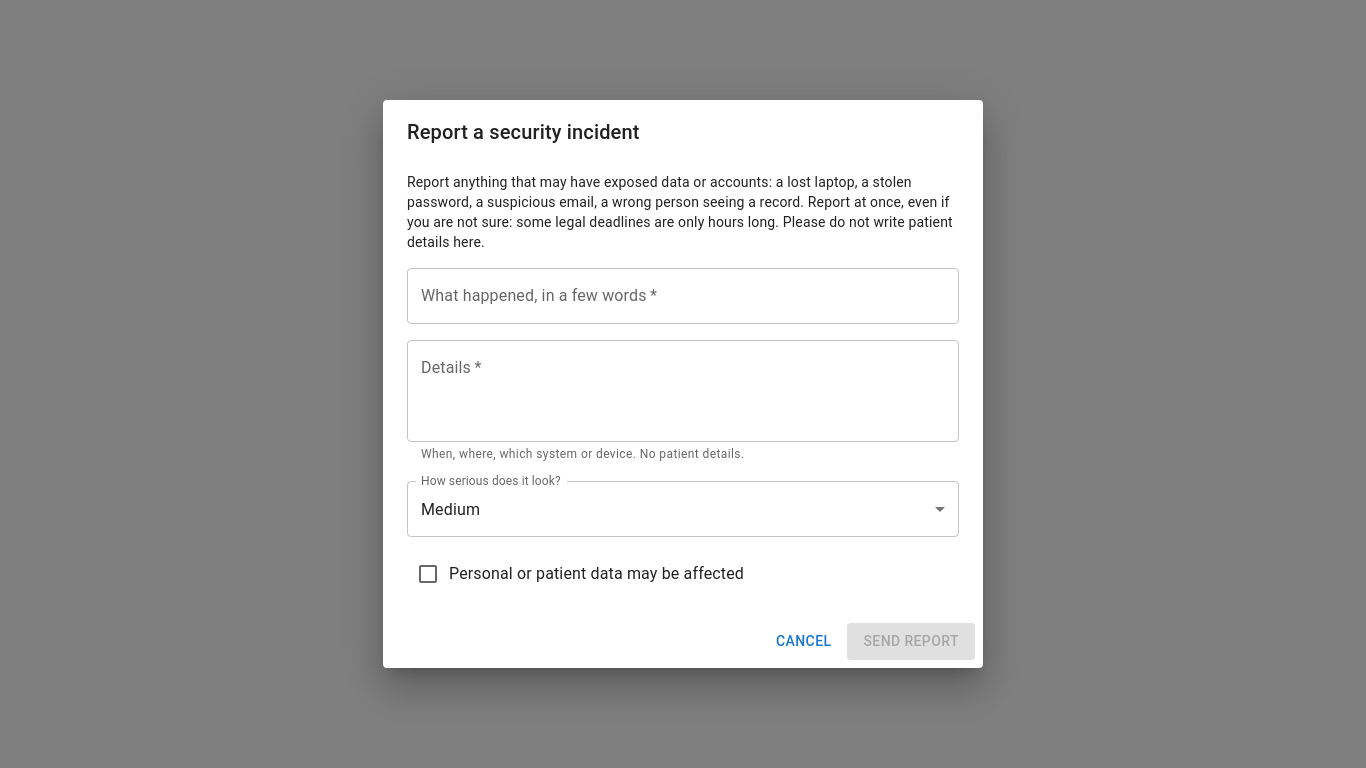
it: CompliancePage (HIMS-COMP) › anyone can report an incident and gets a reference
Expected: the button "Send report" is disabled, [848,623,975,660]
Type "Lost laptop" into the field labelled "What happened, in a few words *". click: (683, 296)
box: [407,268,959,324]
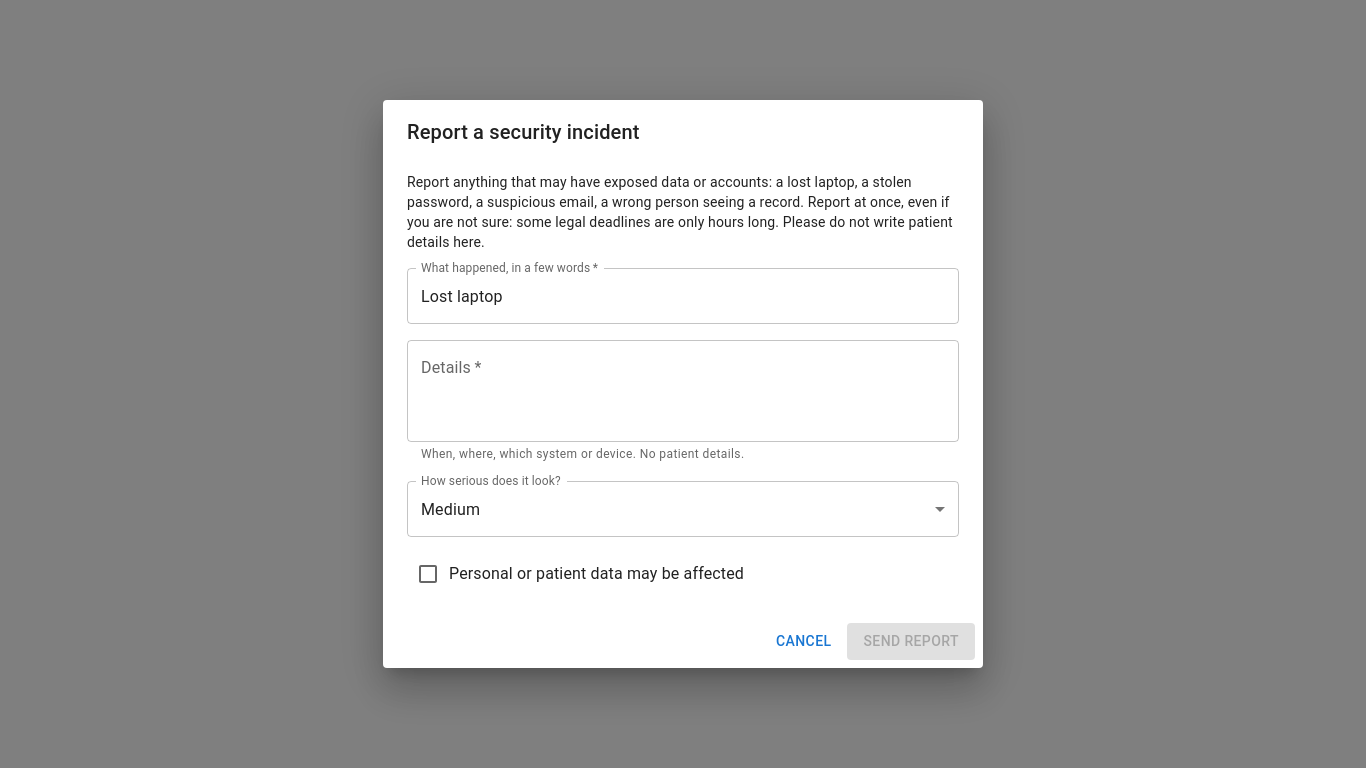
Type "Left on a train" into the text box labelled "Details *". click: (683, 391)
box: [421,357,945,426]
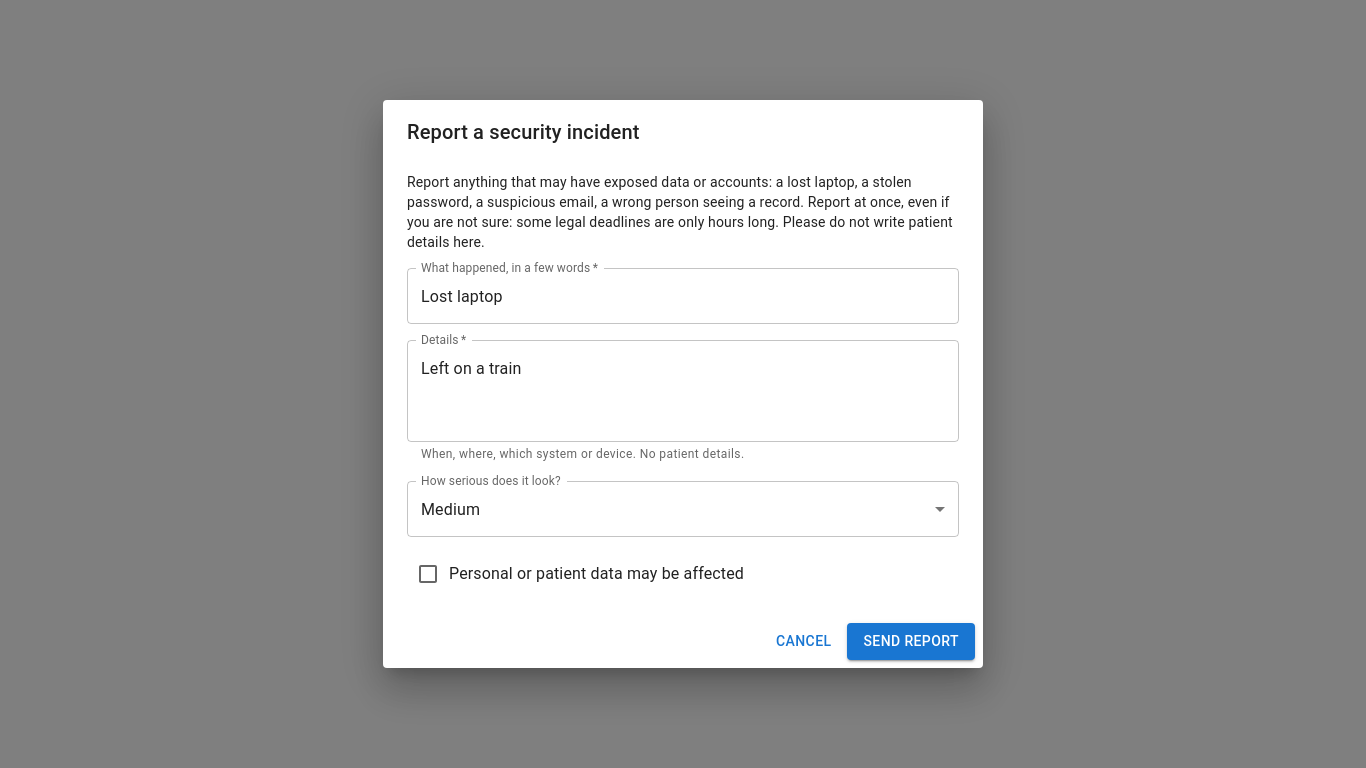
Click the button "Send report". click: (911, 641)
box: [848,623,975,660]
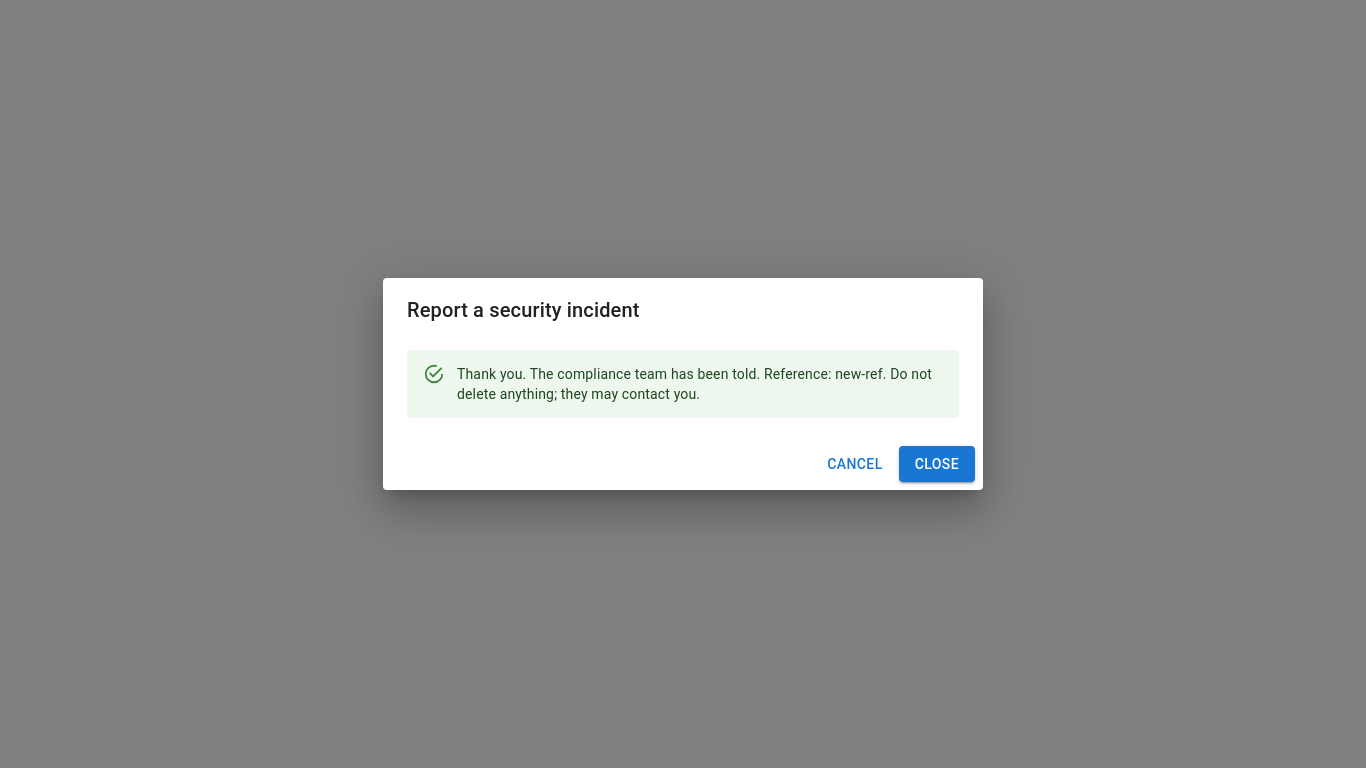
Expected: the text "Reference: new-ref" is shown, [457,356,943,412]
